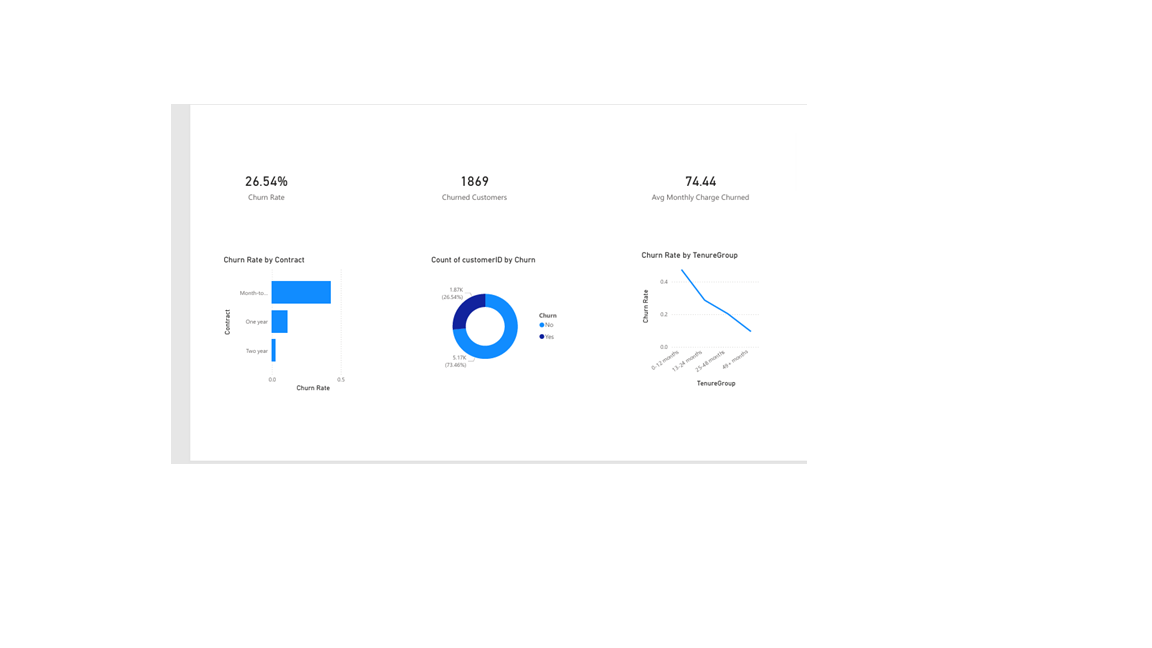

The page's visual inventory and layout, read from the dashboard file:
{"tool":"powerbi","page":{"name":"Page 1","canvas":[1280,720],"ordinal":0},"visuals":[{"type":"card","fields":{"Values":["Telco-Customer-Churn.Churn Rate"]},"box":[0,10,280,280],"z":0},{"type":"clusteredBarChart","fields":{"Category":["Telco-Customer-Churn.Contract"],"Y":["Telco-Customer-Churn.Churn Rate"]},"box":[42.5,300,300,300],"z":1000},{"type":"card","fields":{"Values":["Telco-Customer-Churn.Churned Customers"]},"box":[437.5,0,300,300],"z":2000},{"type":"card","fields":{"Values":["Telco-Customer-Churn.Avg Monthly Charge Churned"]},"box":[925,0,300,300],"z":3000},{"type":"donutChart","fields":{"Category":["Telco-Customer-Churn.Churn"],"Y":["CountNonNull(Telco-Customer-Churn.customerID)"]},"box":[490,300,300,290],"z":4000},{"type":"lineChart","fields":{"Category":["Telco-Customer-Churn.TenureGroup"],"Y":["Telco-Customer-Churn.Churn Rate"]},"box":[942.5,290,265,300],"z":4001}]}

Visuals, with their boxes in screenshot pixels (x1, y1, x2, y2), scaled from the page's 1280x720 canvas onto the 1152x648 screenshot:
card - Telco-Customer-Churn.Churn Rate: [x1=0, y1=9, x2=252, y2=261]
clusteredBarChart - Telco-Customer-Churn.Contract x Telco-Customer-Churn.Churn Rate: [x1=38, y1=270, x2=308, y2=540]
card - Telco-Customer-Churn.Churned Customers: [x1=394, y1=0, x2=664, y2=270]
card - Telco-Customer-Churn.Avg Monthly Charge Churned: [x1=832, y1=0, x2=1102, y2=270]
donutChart - Telco-Customer-Churn.Churn x CountNonNull(Telco-Customer-Churn.customerID): [x1=441, y1=270, x2=711, y2=531]
lineChart - Telco-Customer-Churn.TenureGroup x Telco-Customer-Churn.Churn Rate: [x1=848, y1=261, x2=1087, y2=531]
